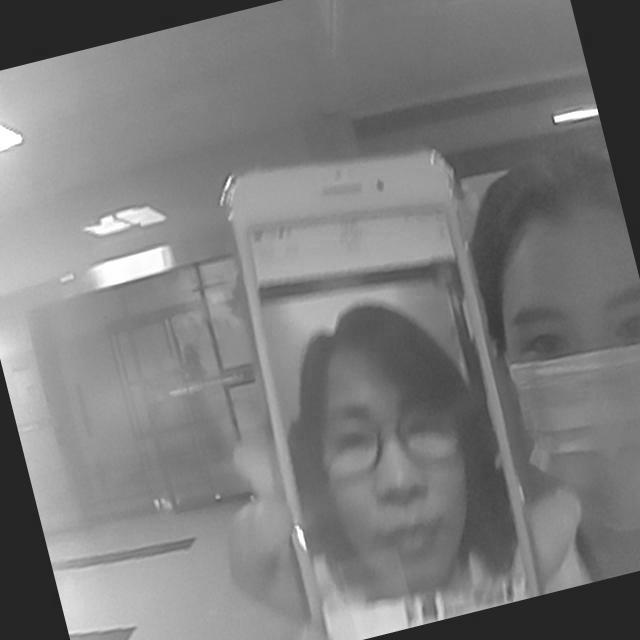fake: (193, 120, 557, 640)
